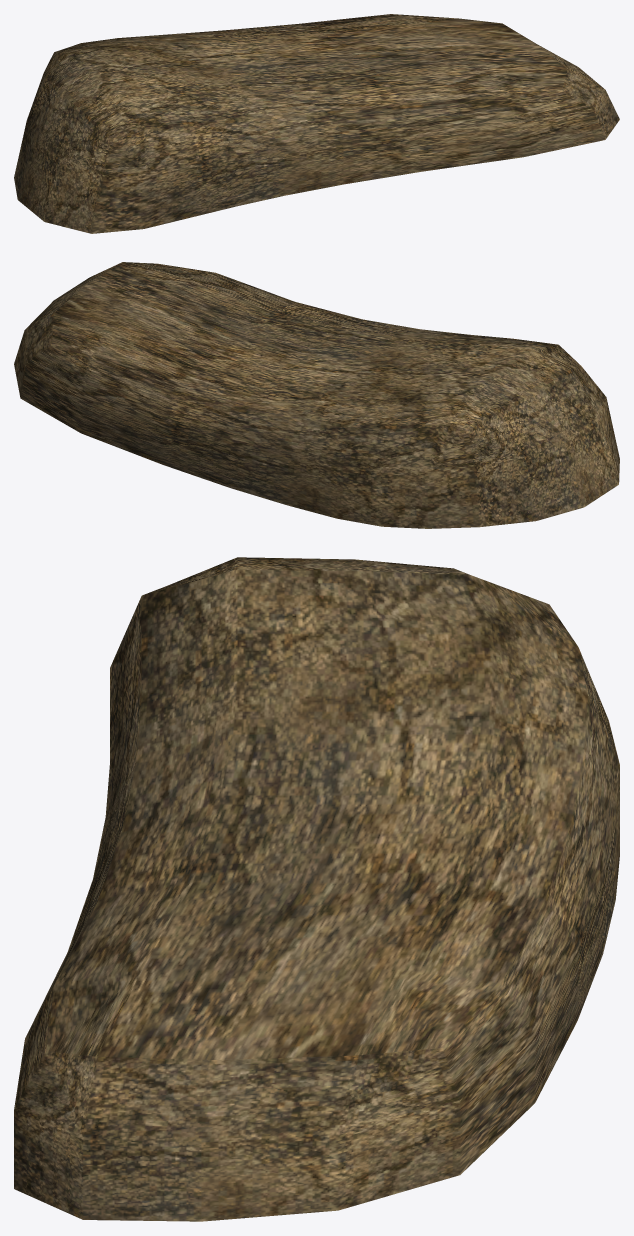
The model's file is CH09_SMAUG_PLAYSURFACE_LONELYMOUNTAIN_LM-STAIRS03.fbx.
The picture shows the model from 3 angles, top to bottom: view 1: azimuth 30°, elevation 25°; view 2: azimuth 150°, elevation 25°; view 3: azimuth 270°, elevation 25°; orthographic projection. The views are drawn at different scales.
Parts seen in each view (by area): view 1: CH09_SMAUG_PLAYSURFACE_LONELYMOUNTAIN_LM-STAIRS03; view 2: CH09_SMAUG_PLAYSURFACE_LONELYMOUNTAIN_LM-STAIRS03; view 3: CH09_SMAUG_PLAYSURFACE_LONELYMOUNTAIN_LM-STAIRS03.
Part boxes in pixels (box(x1,y1,x2,y2)): CH09_SMAUG_PLAYSURFACE_LONELYMOUNTAIN_LM-STAIRS03: box(14, 14, 619, 233); CH09_SMAUG_PLAYSURFACE_LONELYMOUNTAIN_LM-STAIRS03: box(14, 262, 619, 528); CH09_SMAUG_PLAYSURFACE_LONELYMOUNTAIN_LM-STAIRS03: box(14, 557, 619, 1221).
Size of the model in its own units: 120077 by 22131 by 58885.
1 material, 1 textured.
